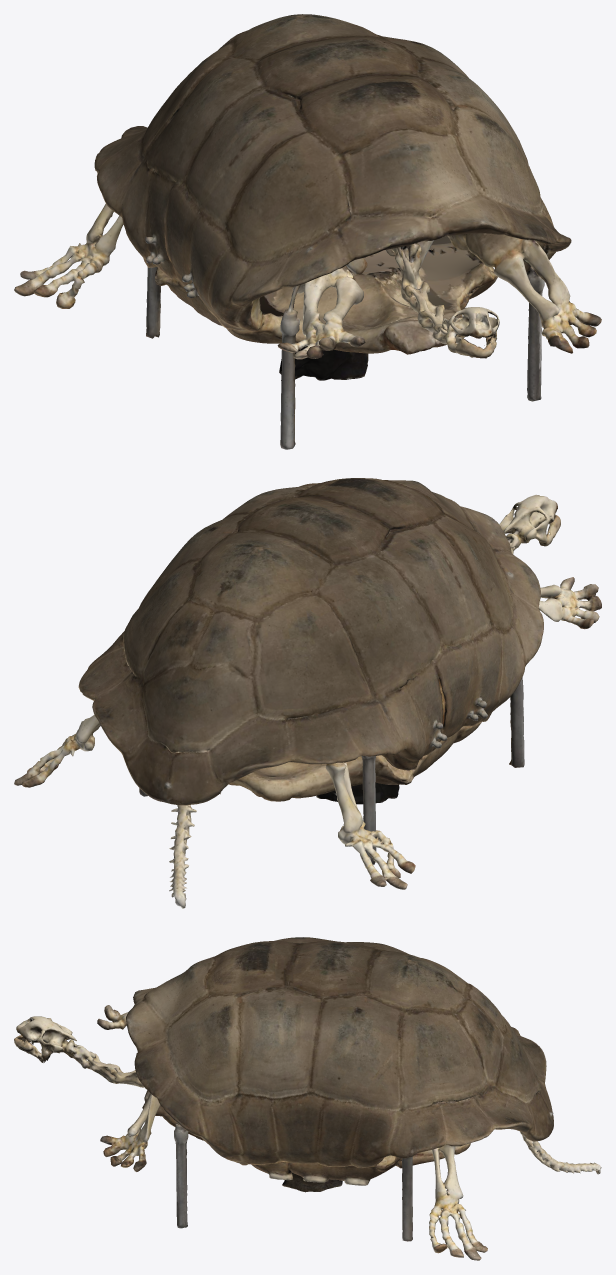
File: USNM_222486-100k-2048.gltf
The picture shows the model from 3 angles, top to bottom: view 1: azimuth 30°, elevation 25°; view 2: azimuth 150°, elevation 25°; view 3: azimuth 270°, elevation 25°; orthographic projection. The views are drawn at different scales.
Size of the model in its own units: 0.9579 by 0.6266 by 1.41.
Materials: 1 (1 with a texture image).
